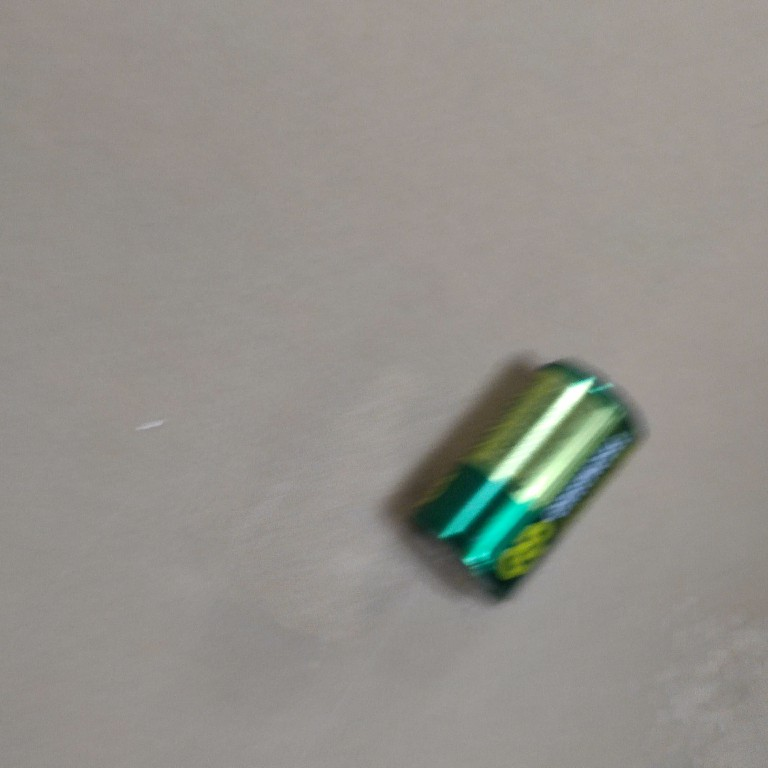charge: (388, 341, 657, 615)
